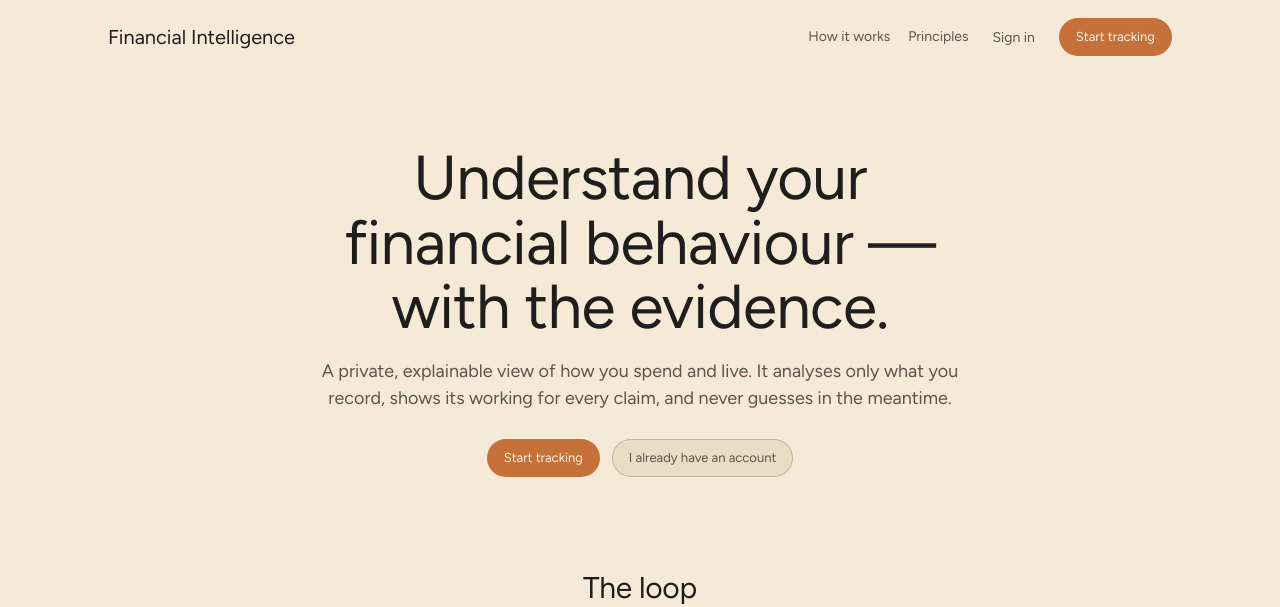
Test case: the login gate › signs in and reveals the app
This screenshot has width=1280, height=607.
Click the button "Sign in" at (1014, 37), box [986,28,1041,47]
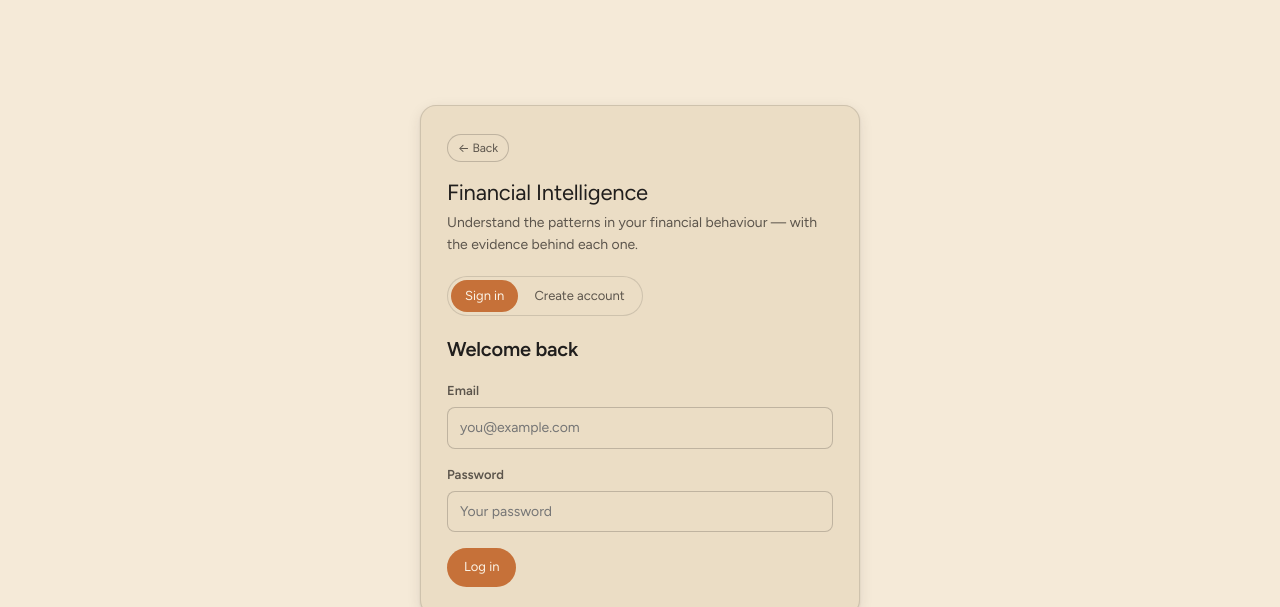
Type "user-a@afi.test" into the field labelled "Email" at (640, 428), box [447,407,833,448]
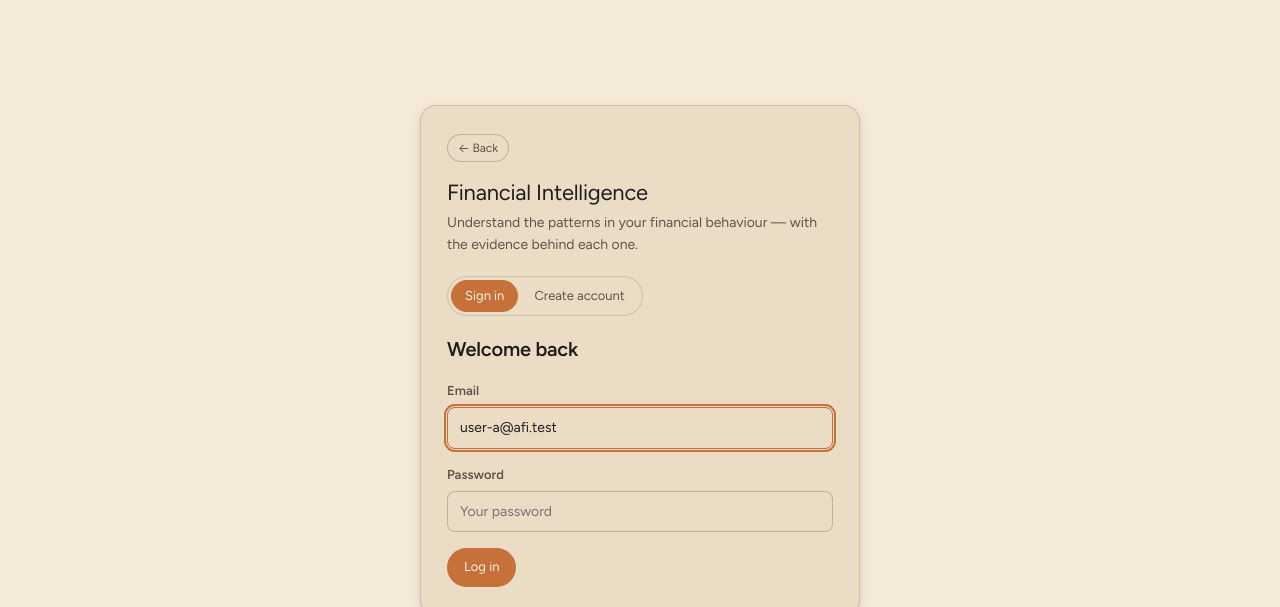
Type "test-password" into the password field labelled "Password" at (640, 512), box [447,491,833,532]
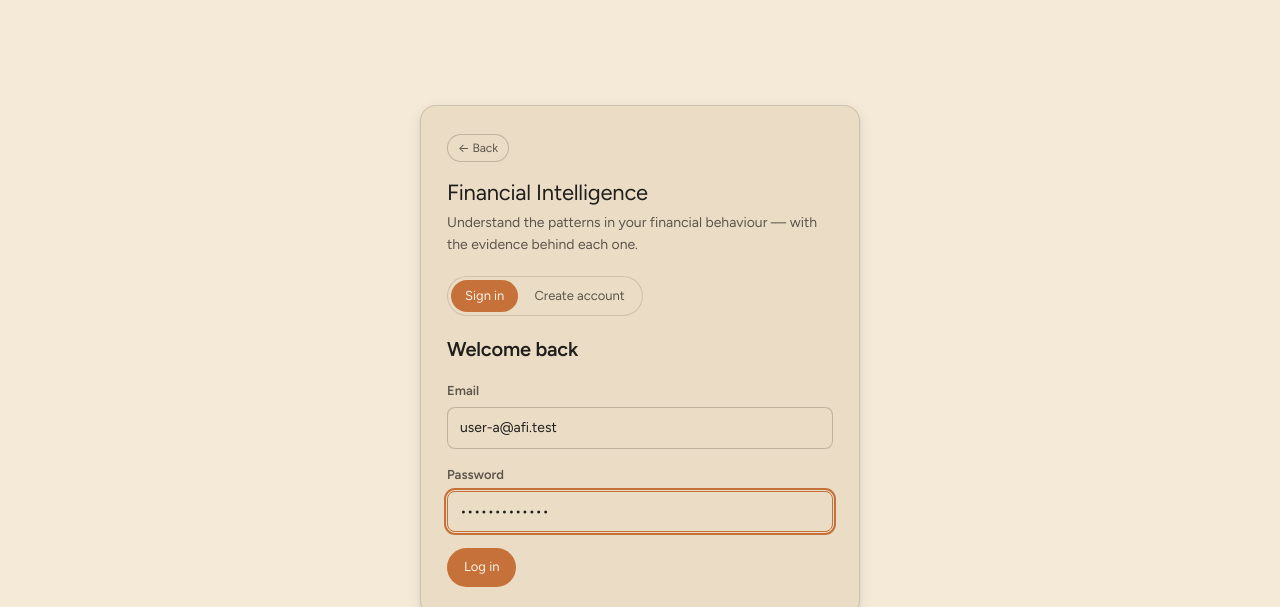
Click the button "Log in" at (482, 567), box [447,548,516,586]
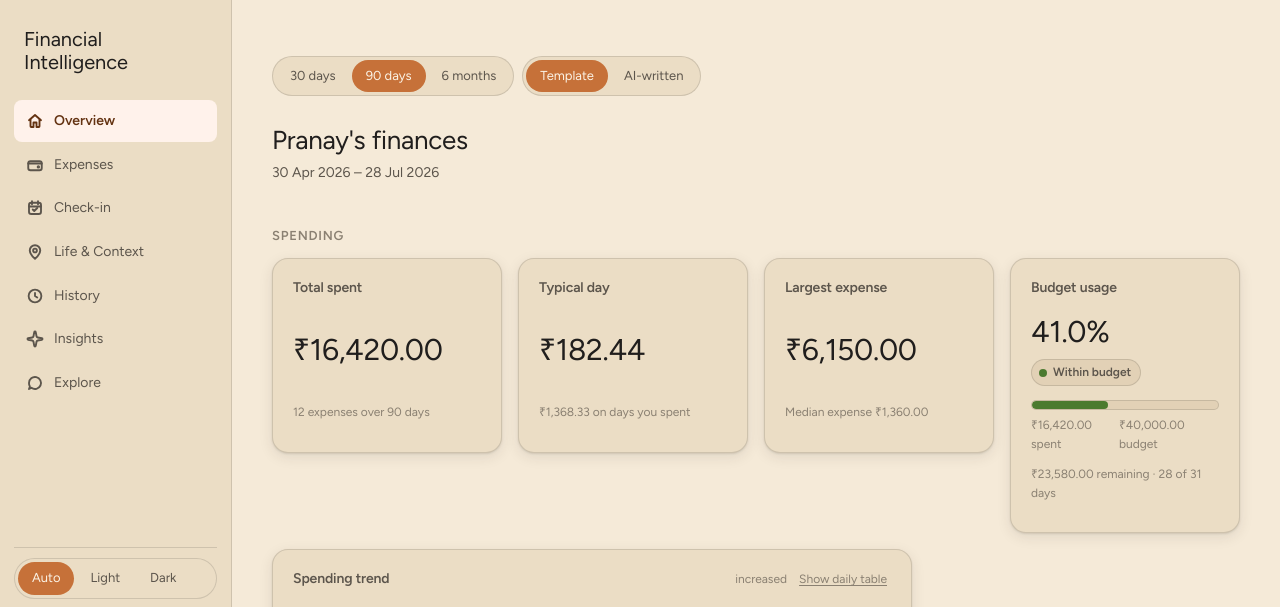
Expected: the heading "Total spent" is shown, [293,277,362,299]
